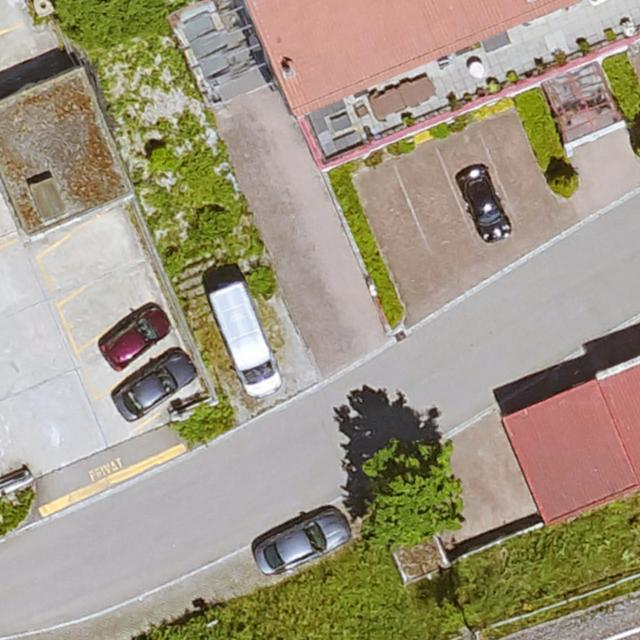tree: (363, 439, 459, 542)
